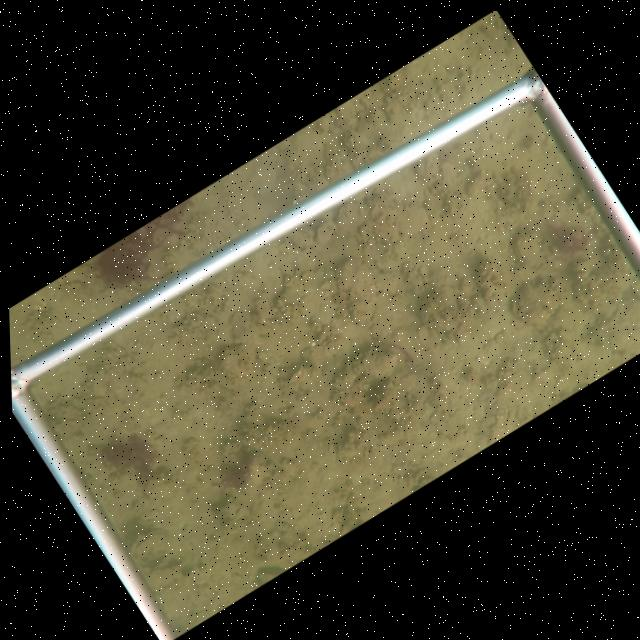Oyster-Indeterminate: (332, 257, 379, 323), (219, 342, 258, 381), (333, 198, 371, 238), (510, 229, 543, 268), (362, 351, 399, 379)
